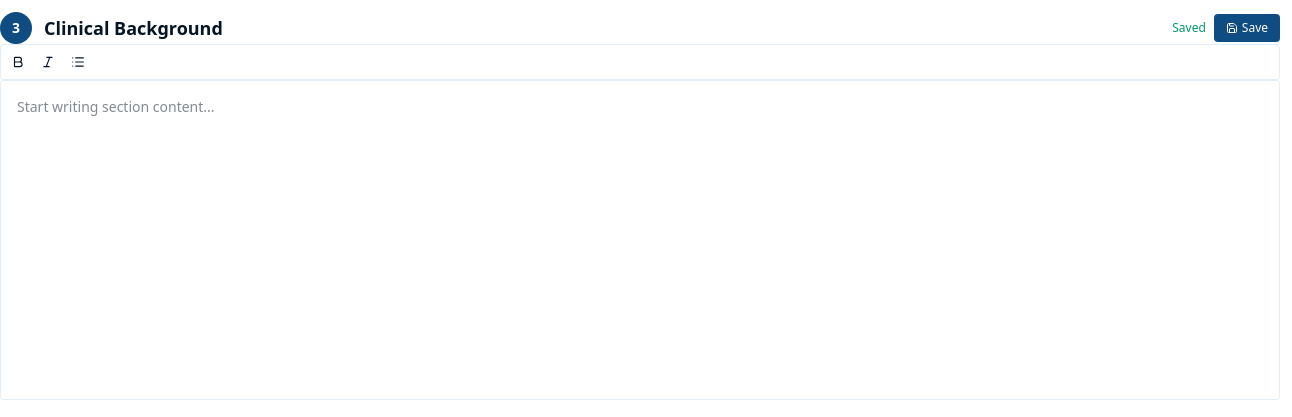
Test: SectionEditor › updates save indicator on content change
Type "New content" into the text box with placeholder "Start writing section content..." at coordinates (640, 237), box x1=17 y1=97 x2=1263 y2=377
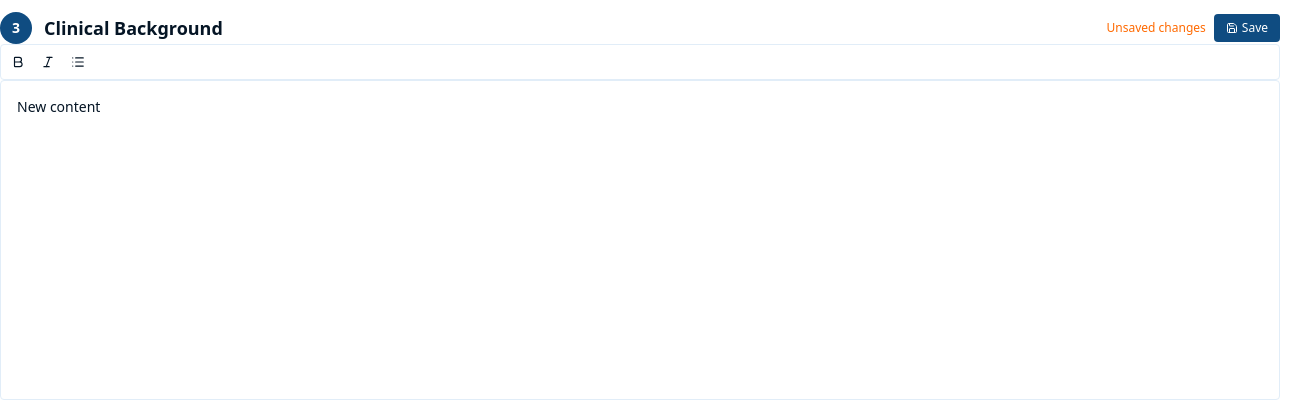
Now the text with test id "save-indicator" reads "Unsaved changes", box x1=1106 y1=19 x2=1206 y2=36
